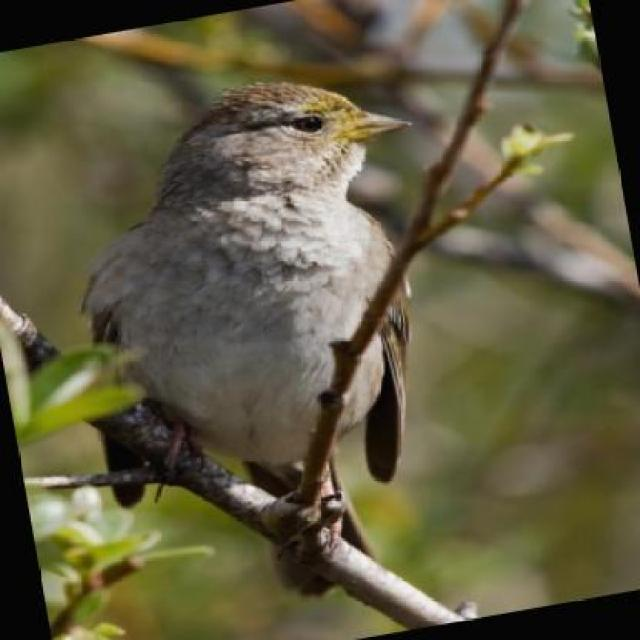Bird: (89, 82, 449, 552)
